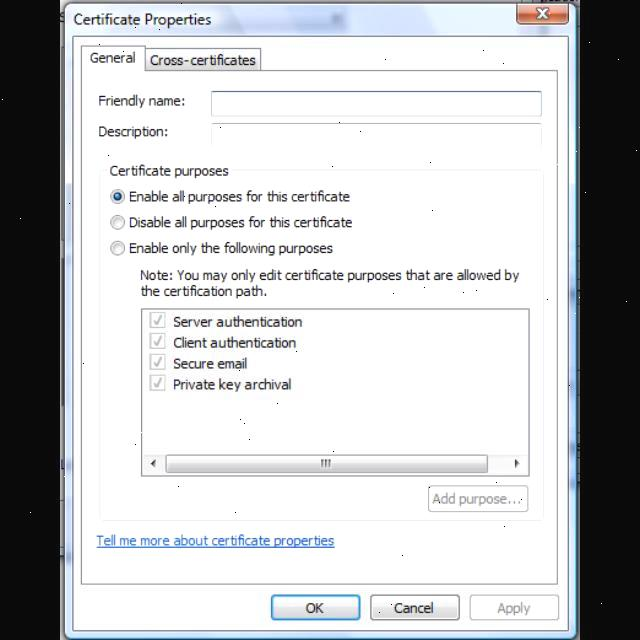Hyperlink: (92, 530, 345, 554)
button: (424, 481, 530, 515), (266, 589, 364, 623), (368, 590, 463, 623), (466, 590, 560, 622), (511, 0, 570, 28)
checkbox: (146, 307, 170, 330), (148, 374, 166, 392), (149, 332, 167, 350), (149, 353, 166, 371)
input: (207, 118, 546, 153), (208, 86, 545, 120)
label: (138, 267, 525, 300), (128, 186, 356, 204), (129, 213, 354, 230), (128, 239, 336, 257), (71, 8, 225, 29), (171, 332, 303, 354), (171, 376, 302, 398), (169, 312, 307, 332), (106, 162, 233, 178), (91, 91, 186, 109), (94, 121, 174, 142), (169, 356, 252, 374)
radio: (105, 237, 127, 259), (105, 184, 127, 206), (107, 210, 128, 232)
slider: (140, 449, 532, 477)
tabControl: (74, 41, 268, 79)
